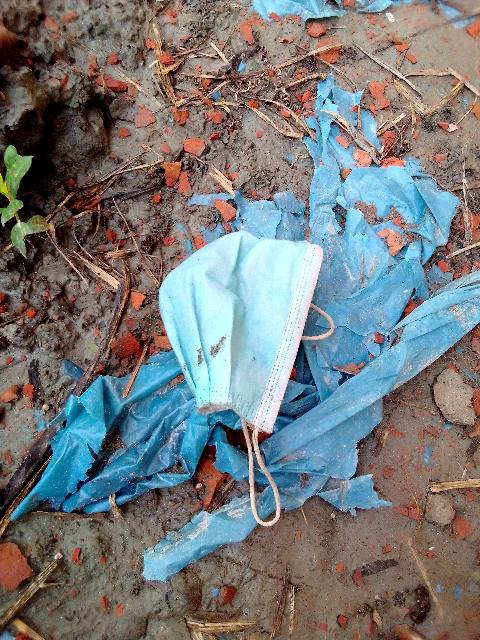mask: (160, 244, 303, 397)
